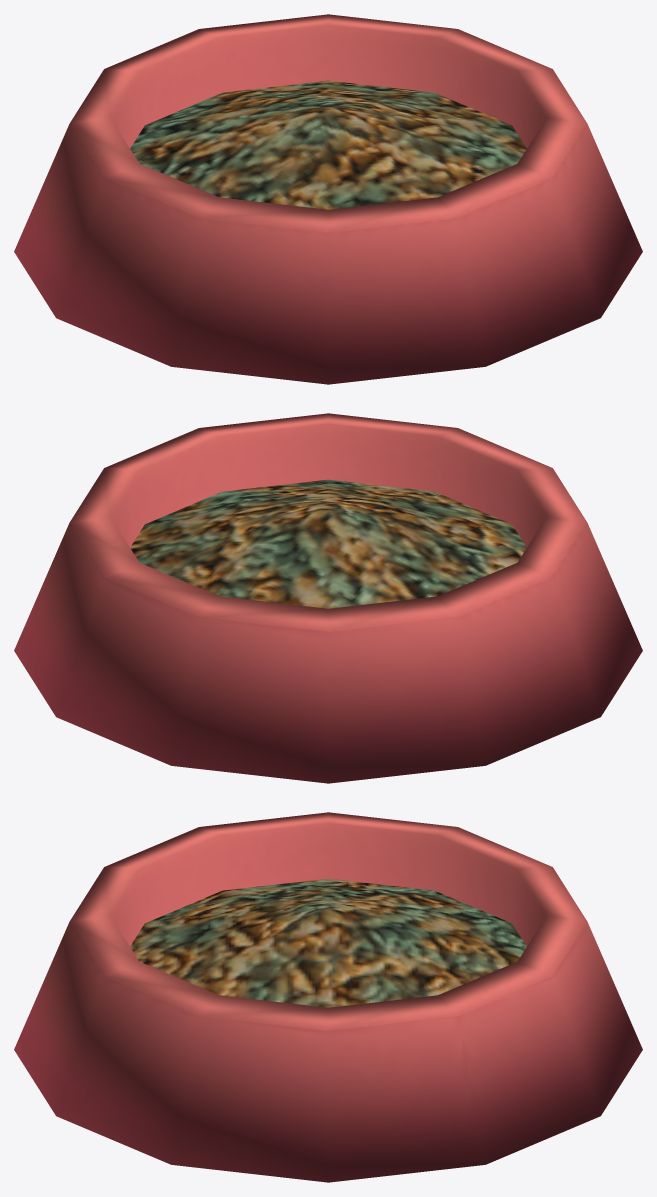
The model's file is cu_cat_feed_grp.fbx.
3 renders of one model, top to bottom at view 1: azimuth 30°, elevation 25°; view 2: azimuth 150°, elevation 25°; view 3: azimuth 270°, elevation 25°, orthographic.
Visible parts, largest first — view 1: cu_cat_feedtray_a_mesh, cu_cat_food_a_mesh; view 2: cu_cat_feedtray_a_mesh, cu_cat_food_a_mesh; view 3: cu_cat_feedtray_a_mesh, cu_cat_food_a_mesh.
Boxes of the visible parts, x1,y1,x2,y2 form: cu_cat_feedtray_a_mesh: (14, 14, 642, 384); cu_cat_food_a_mesh: (130, 80, 526, 209); cu_cat_feedtray_a_mesh: (14, 413, 642, 783); cu_cat_food_a_mesh: (130, 479, 526, 608); cu_cat_feedtray_a_mesh: (14, 812, 642, 1182); cu_cat_food_a_mesh: (130, 878, 526, 1007).
Size of the model in its own units: 11.39 by 2.79 by 11.39.
